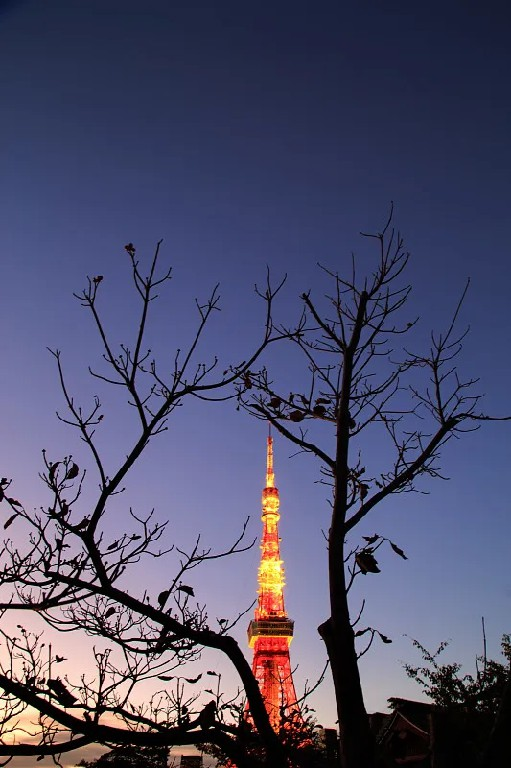Tokyo: (238, 412, 311, 746)
